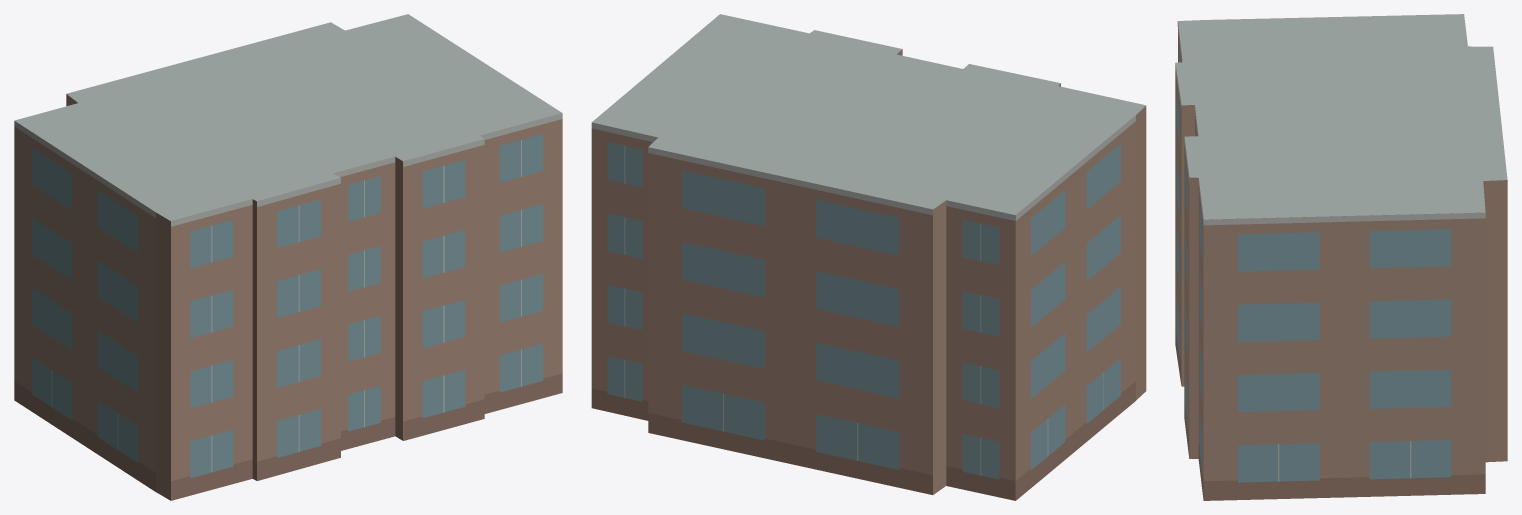
The model's file is survey-upis-32977251.glb.
3 renders of one model, left to right at view 1: azimuth 30°, elevation 25°; view 2: azimuth 150°, elevation 25°; view 3: azimuth 270°, elevation 25°, orthographic. The views are drawn at different scales.
Visible parts, largest first — view 1: survey-upis-32977251.tmp; view 2: survey-upis-32977251.tmp; view 3: survey-upis-32977251.tmp.
Boxes of the visible parts, x1,y1,x2,y2 form: survey-upis-32977251.tmp: (14, 14, 562, 500); survey-upis-32977251.tmp: (591, 14, 1146, 500); survey-upis-32977251.tmp: (1175, 14, 1507, 500).
Bounding box in the file's own units: 18.66 × 11.9 × 12.75.
